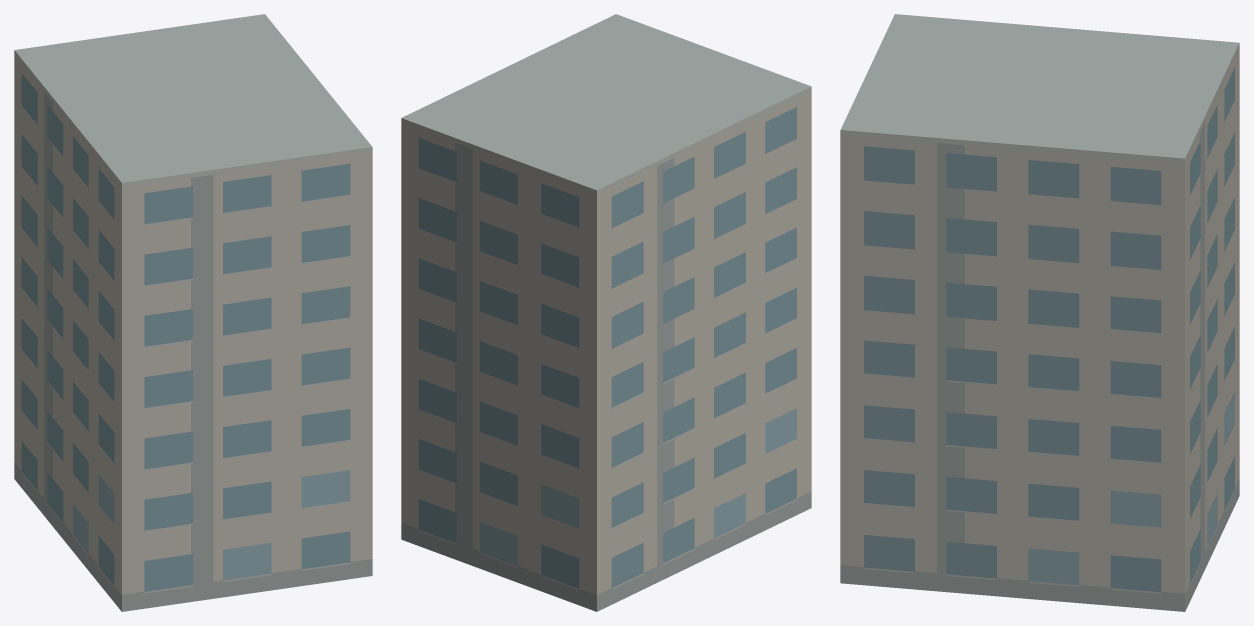
Rendered from survey-upis-32785100.glb.
3 renders of one model, left to right at view 1: azimuth 30°, elevation 25°; view 2: azimuth 150°, elevation 25°; view 3: azimuth 270°, elevation 25°, orthographic. The views are drawn at different scales.
Visible parts, largest first — view 1: survey-upis-32785100.tmp; view 2: survey-upis-32785100.tmp; view 3: survey-upis-32785100.tmp.
Boxes of the visible parts, <box> form: survey-upis-32785100.tmp: <box>14,14,372,611</box>; survey-upis-32785100.tmp: <box>401,14,811,611</box>; survey-upis-32785100.tmp: <box>840,14,1239,611</box>.
Size of the model in its own units: 14.61 by 21.35 by 17.04.
